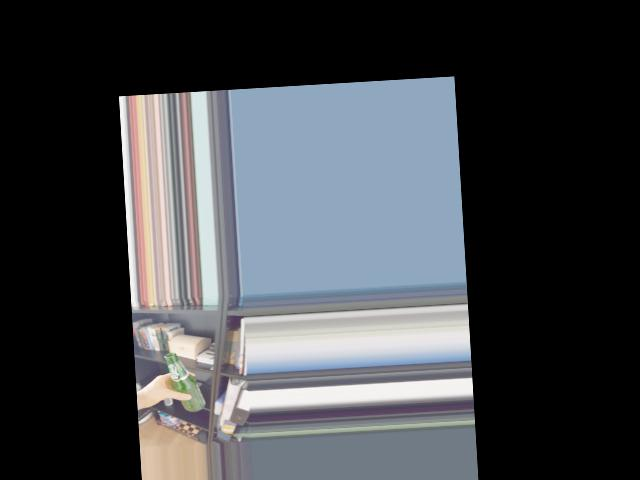beer: (164, 351, 206, 413)
